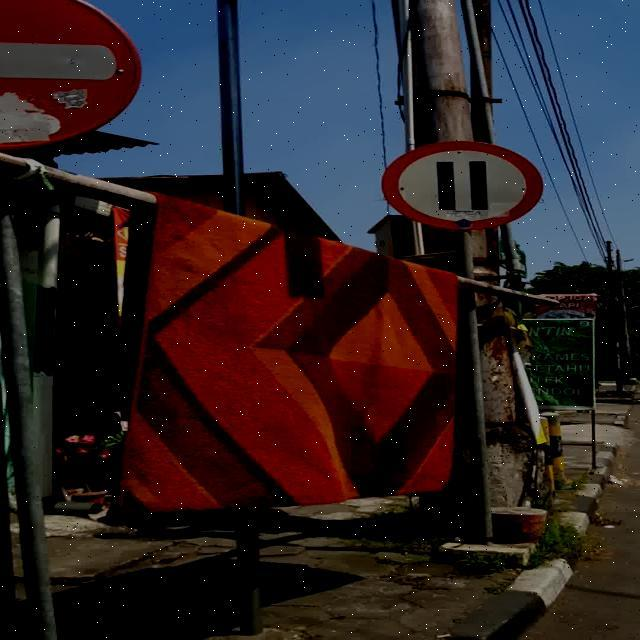Larangan Muatan - 10 ton: (381, 140, 543, 230)
